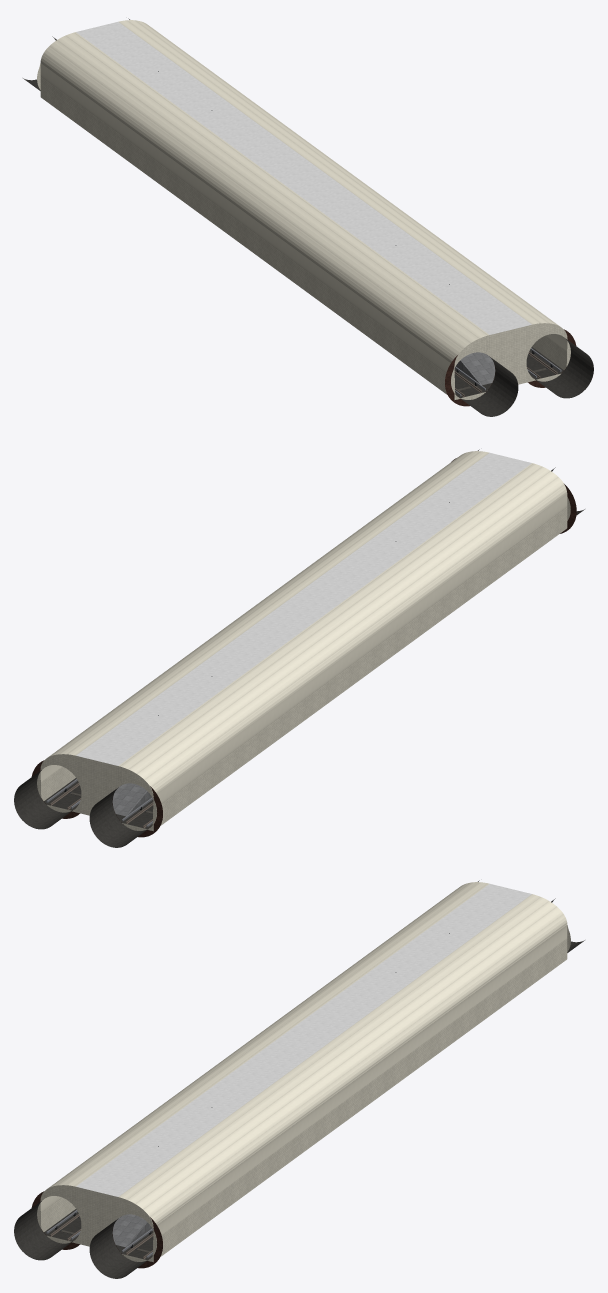
Rendered from station_st-georges-cross.glb.
3 renders of one model, top to bottom at view 1: azimuth 30°, elevation 25°; view 2: azimuth 150°, elevation 25°; view 3: azimuth 330°, elevation 25°, orthographic.
Parts seen in each view (by area): view 1: hall_shell, end_walls; view 2: hall_shell, end_walls; view 3: hall_shell, end_walls.
Part boxes in pixels (<box>): hall_shell: <box>40,20,567,399</box>; end_walls: <box>23,18,593,416</box>; hall_shell: <box>40,451,567,830</box>; end_walls: <box>14,449,584,847</box>; hall_shell: <box>40,882,567,1261</box>; end_walls: <box>14,880,584,1278</box>.
Size of the model in its own units: 9.94 by 4.84 by 60.
Materials: 29 (20 with a texture image).
